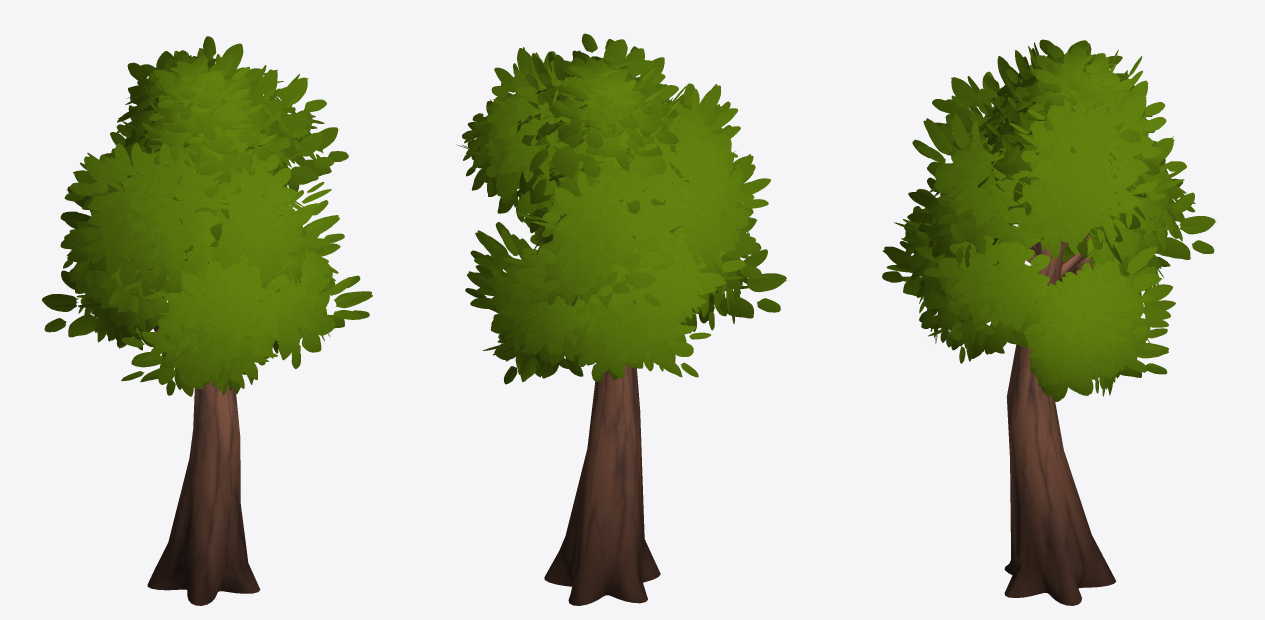
File: mk-common-1.glb
3 renders of one model, left to right at view 1: azimuth 30°, elevation 25°; view 2: azimuth 150°, elevation 25°; view 3: azimuth 270°, elevation 25°, orthographic. The views are drawn at different scales.
Visible parts, largest first — view 1: CommonTree_1; view 2: CommonTree_1; view 3: CommonTree_1.
Boxes of the visible parts, x1,y1,x2,y2 form: CommonTree_1: (42, 36, 372, 605); CommonTree_1: (456, 33, 787, 605); CommonTree_1: (882, 39, 1216, 605).
Bounding box in the file's own units: 4.47 × 7.28 × 4.86.
Materials: 2 (2 with a texture image).
